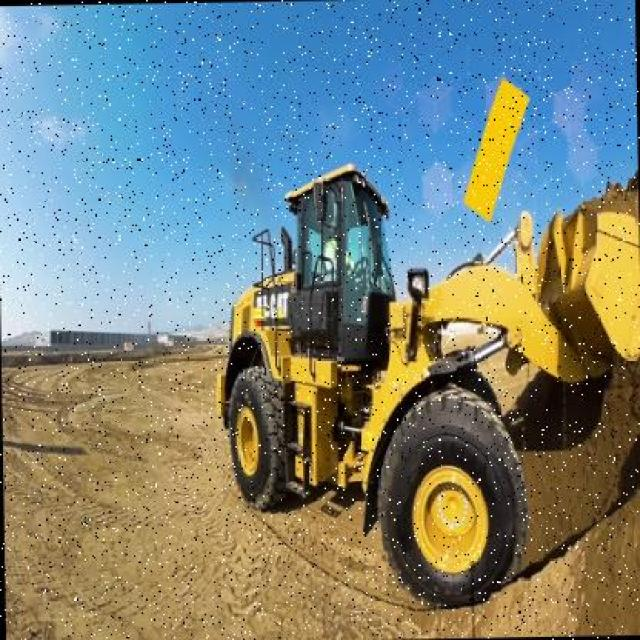buldozerpayloadergrader: (194, 146, 640, 609)
